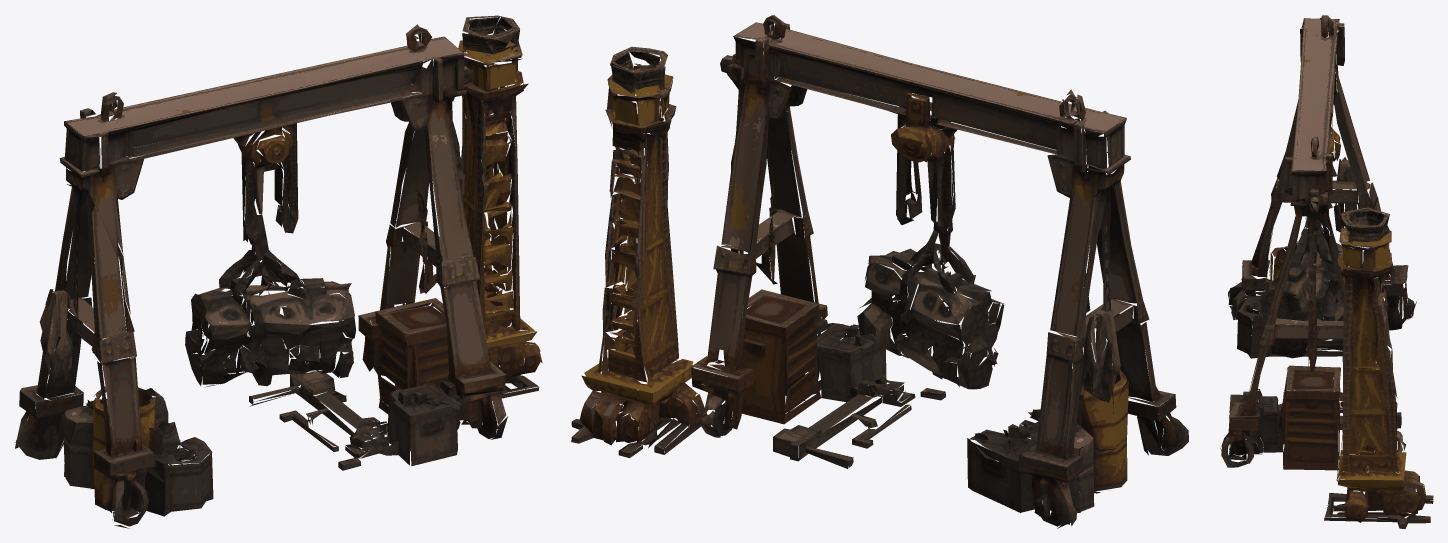
Rendered from yd_service_gantry.glb.
The picture shows the model from 3 angles, left to right: view 1: azimuth 30°, elevation 25°; view 2: azimuth 150°, elevation 25°; view 3: azimuth 270°, elevation 25°; orthographic projection. The views are drawn at different scales.
Visible parts, largest first — view 1: yd_service_gantry; view 2: yd_service_gantry; view 3: yd_service_gantry.
Boxes of the visible parts, box(x1,y1,x2,y2) form: yd_service_gantry: box(15, 15, 542, 528); yd_service_gantry: box(571, 15, 1188, 528); yd_service_gantry: box(1220, 15, 1433, 528).
Size of the model in its own units: 4.62 by 3.55 by 2.05.
Materials: 1 (1 with a texture image).
